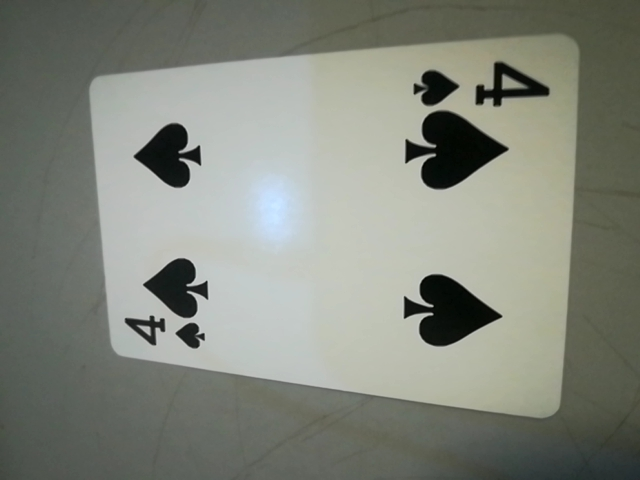ht 4: (402, 57, 567, 120)
